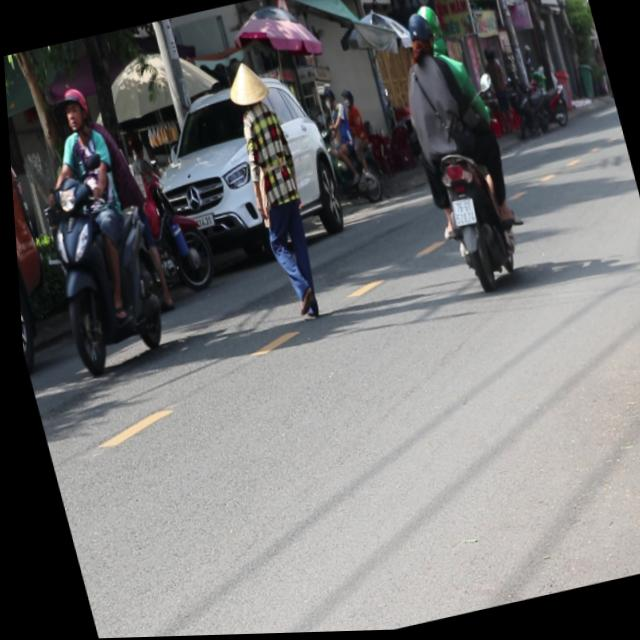helmet: (57, 84, 94, 137), (400, 10, 437, 63), (414, 6, 445, 53)
licenseplate: (6, 74, 181, 381), (377, 0, 532, 303)
nohelmet: (447, 199, 475, 230)
